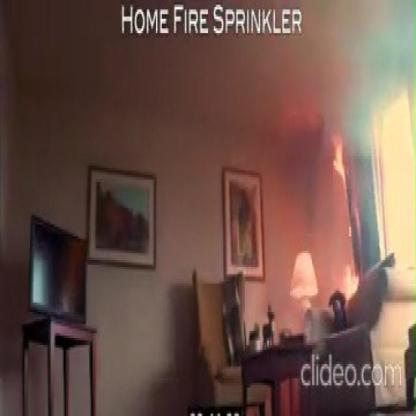Fire: (328, 125, 350, 210), (335, 260, 363, 300)
